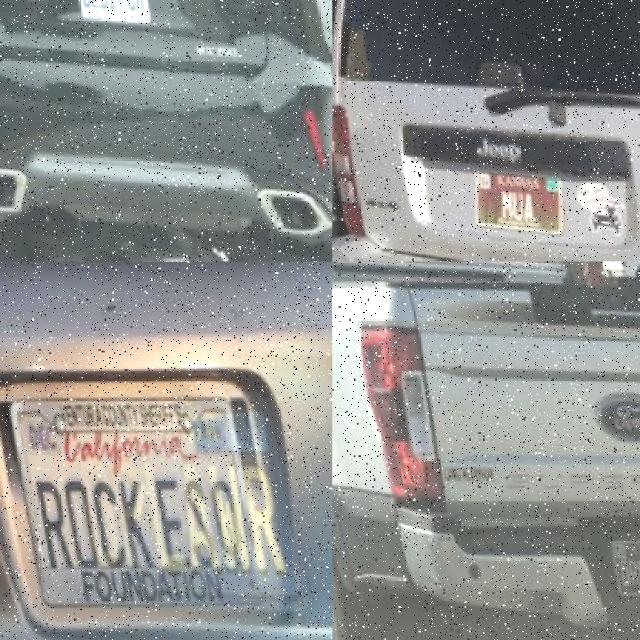licenseplate: (2, 377, 264, 614), (468, 163, 556, 229), (64, 0, 148, 43), (604, 531, 640, 590)
